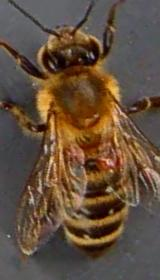varroa_mite: (87, 150, 122, 170)
